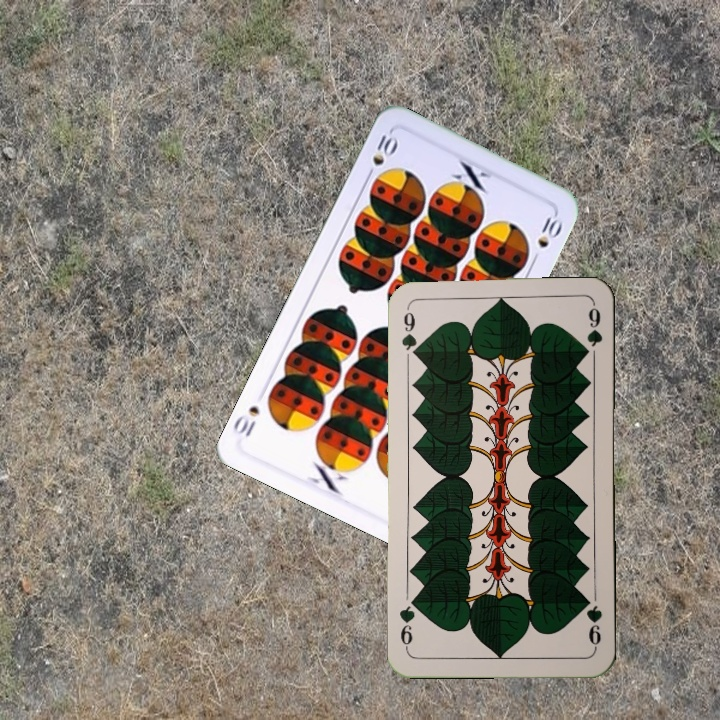G9: (580, 592, 605, 651), (397, 303, 420, 361)
S10: (362, 130, 401, 182)
